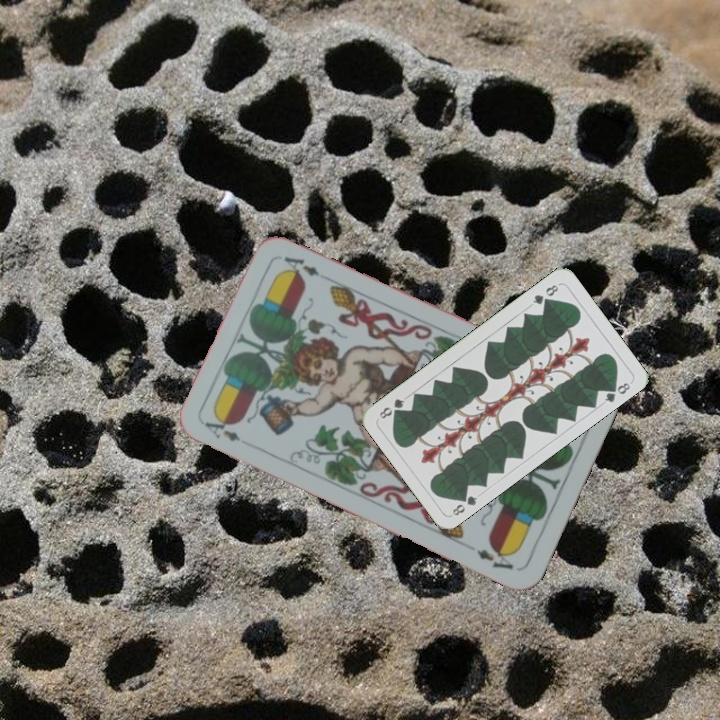EA: (200, 417, 243, 445)
G8: (448, 489, 480, 518), (529, 280, 561, 307)
